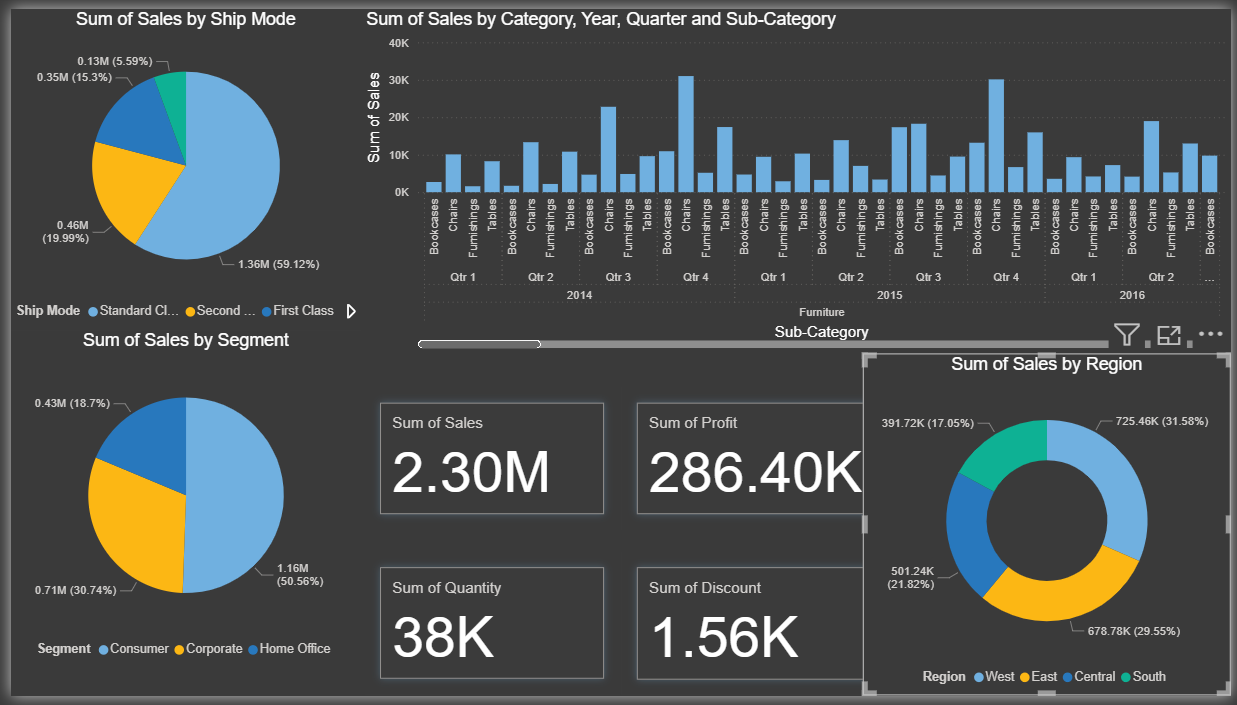

What the dashboard file says about the page in this screenshot:
{"tool":"powerbi","page":{"name":"Page 1","canvas":[1280,720],"ordinal":0},"visuals":[{"type":"pieChart","fields":{"Category":["Orders.Ship Mode"],"Y":["Sum(Orders.Sales)"]},"box":[0,0,366.9,336.6],"z":0},{"type":"pieChart","fields":{"Category":["Orders.Segment"],"Y":["Sum(Orders.Sales)"]},"box":[0,336.6,366.9,354.1],"z":1000},{"type":"donutChart","fields":{"Category":["Orders.Region"],"Y":["Sum(Orders.Sales)"]},"box":[893.3,360.5,386,358.9],"z":2000},{"type":"cardVisual","fields":{"Data":["Sum(Orders.Sales)"]},"box":[371.7,397.2,268,150],"z":3000},{"type":"cardVisual","fields":{"Data":["Sum(Orders.Profit)"]},"box":[639.7,397.2,284,150],"z":4000},{"type":"cardVisual","fields":{"Data":["Sum(Orders.Quantity)"]},"box":[371.7,569.5,268,150],"z":5000},{"type":"cardVisual","fields":{"Data":["Sum(Orders.Discount)"]},"box":[640.3,569.4,274.2,150],"z":6000},{"type":"columnChart","fields":{"Category":["Orders.Category","Orders.Order Date.Variation.Date Hierarchy.Year","Orders.Order Date.Variation.Date Hierarchy.Quarter","Orders.Sub-Category"],"Y":["Sum(Orders.Sales)"]},"box":[368.5,0,910.9,360.5],"z":7000}]}

Visuals, with their boxes in screenshot pixels (x1, y1, x2, y2), scaled from the page's 1280x720 canvas onto the 1237x705 screenshot:
pieChart - Orders.Ship Mode x Sum(Orders.Sales): [0,0,355,330]
pieChart - Orders.Segment x Sum(Orders.Sales): [0,330,355,676]
donutChart - Orders.Region x Sum(Orders.Sales): [863,353,1236,704]
cardVisual - Sum(Orders.Sales): [359,389,618,536]
cardVisual - Sum(Orders.Profit): [618,389,893,536]
cardVisual - Sum(Orders.Quantity): [359,558,618,704]
cardVisual - Sum(Orders.Discount): [619,558,884,704]
columnChart - Orders.Category x Orders.Order Date.Variation.Date Hierarchy.Year: [356,0,1236,353]
